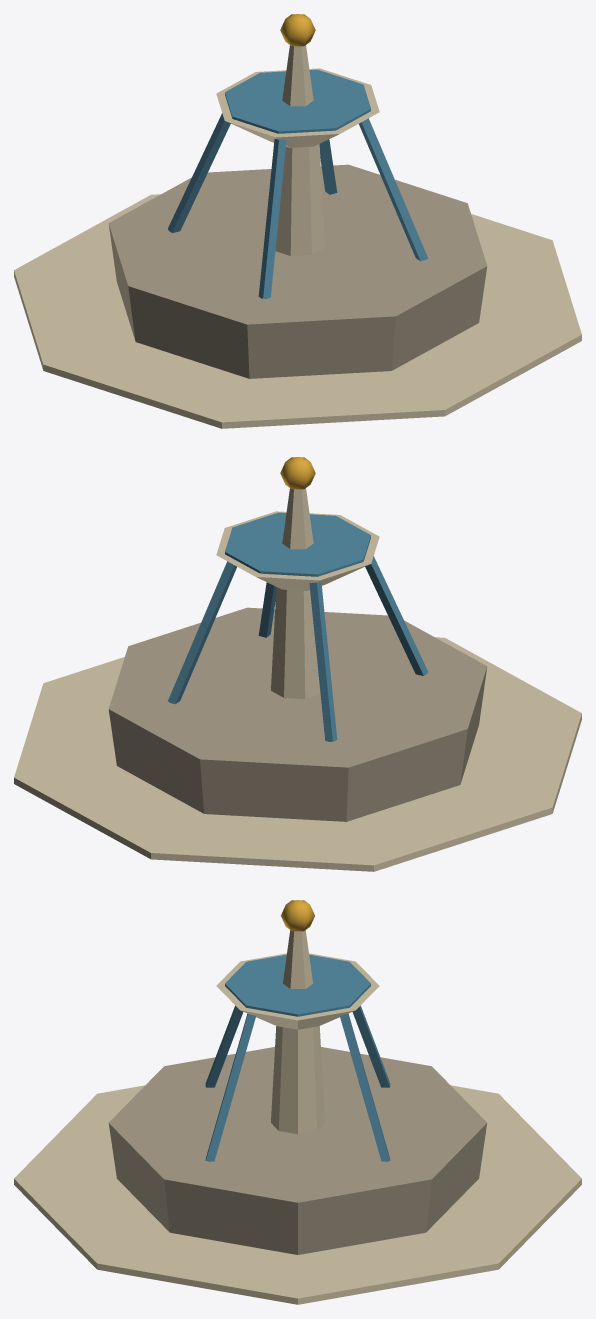
File: castle_fountain.glb
The picture shows the model from 3 angles, top to bottom: view 1: azimuth 30°, elevation 25°; view 2: azimuth 150°, elevation 25°; view 3: azimuth 270°, elevation 25°; orthographic projection. The views are drawn at different scales.
Visible parts, largest first — view 1: castle_fountain; view 2: castle_fountain; view 3: castle_fountain.
Part boxes in pixels (box(x1,y1,x2,y2)): castle_fountain: box(14, 14, 581, 428); castle_fountain: box(14, 457, 581, 871); castle_fountain: box(14, 900, 581, 1304).
Size of the model in its own units: 6.6 by 3.65 by 6.6.
